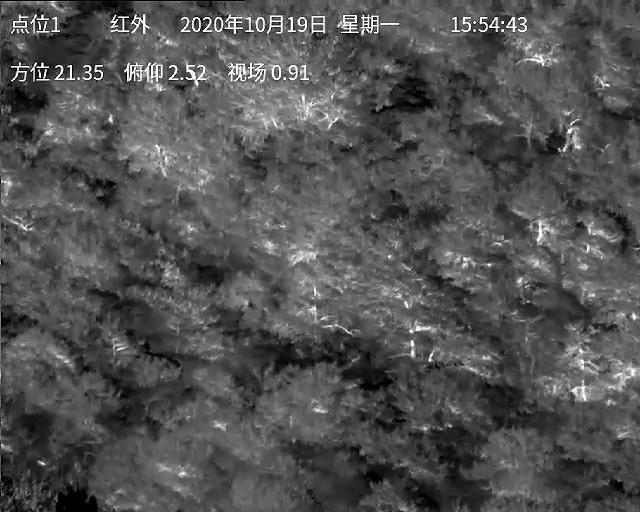uav: (483, 262, 496, 272)
